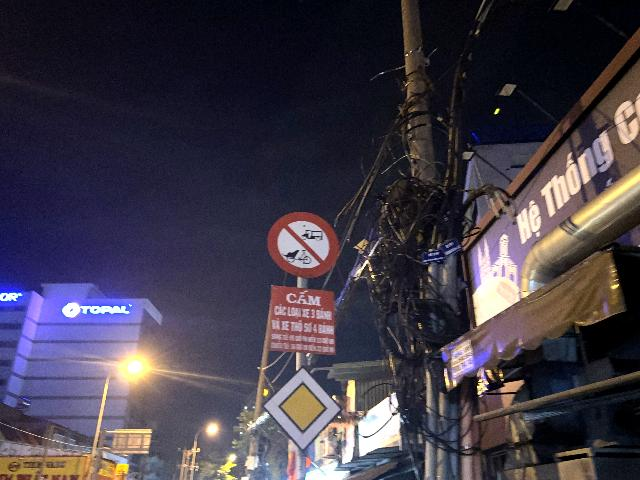bat-dau-duong-uu-tien: (261, 365, 343, 454)
cam-xe-3-banh-xe-tho-so-4-banh: (267, 210, 341, 278)
